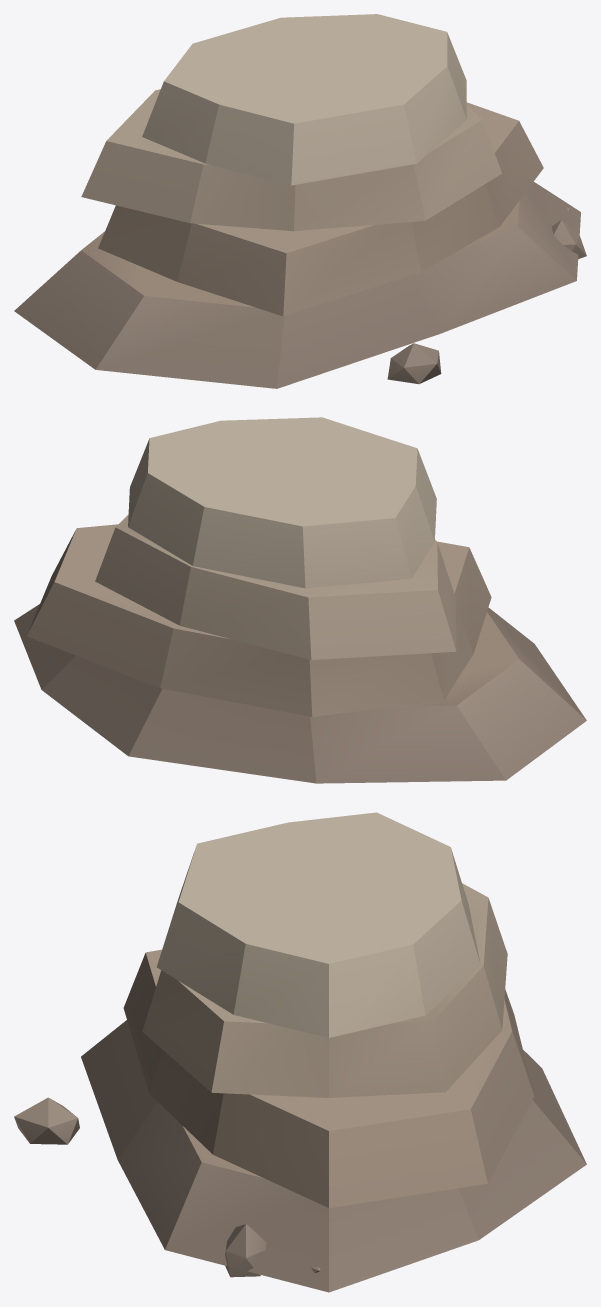
Rendered from mesa_0.glb.
3 views of the same model, one above another, from view 1: azimuth 30°, elevation 25°; view 2: azimuth 150°, elevation 25°; view 3: azimuth 270°, elevation 25° (orthographic). The views are drawn at different scales.
Visible parts, largest first — view 1: mesa_0; view 2: mesa_0; view 3: mesa_0.
Part boxes in pixels (x1,y1,x2,y2): mesa_0: (14,14,586,388); mesa_0: (14,417,586,783); mesa_0: (14,812,586,1292).
Size of the model in its own units: 67.3 by 26.56 by 53.71.
